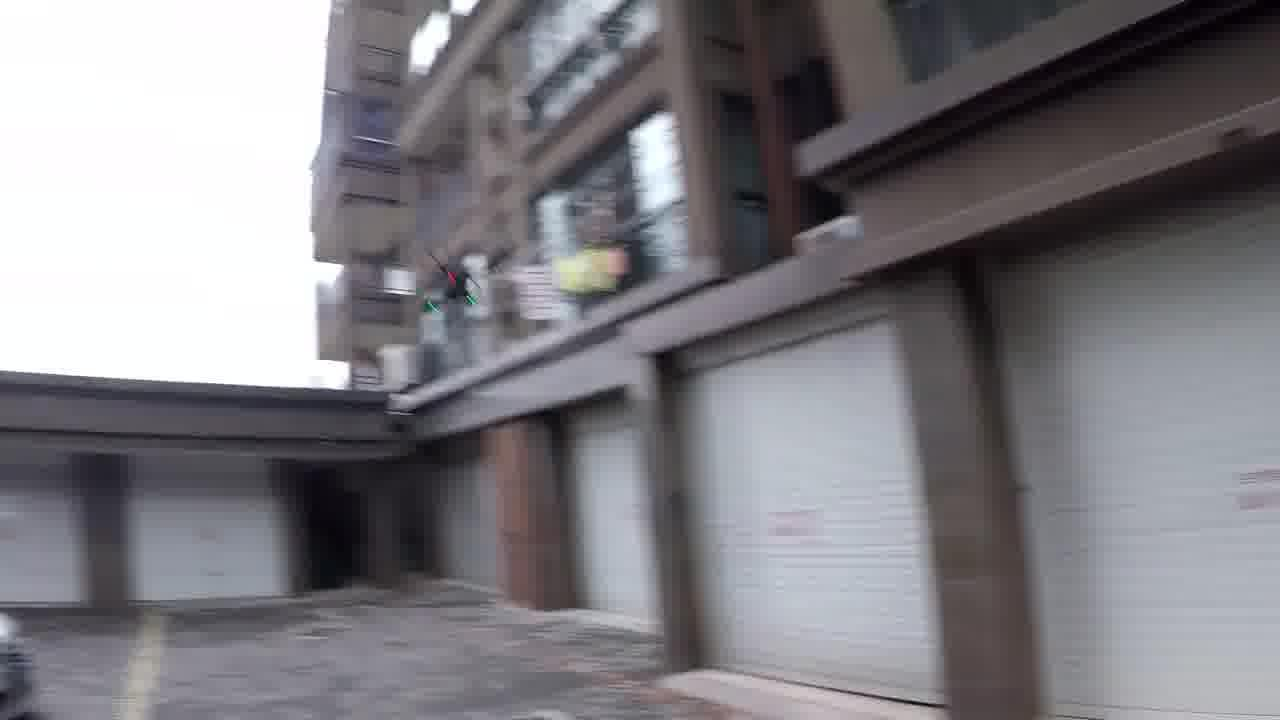drone: (401, 249, 518, 315)
